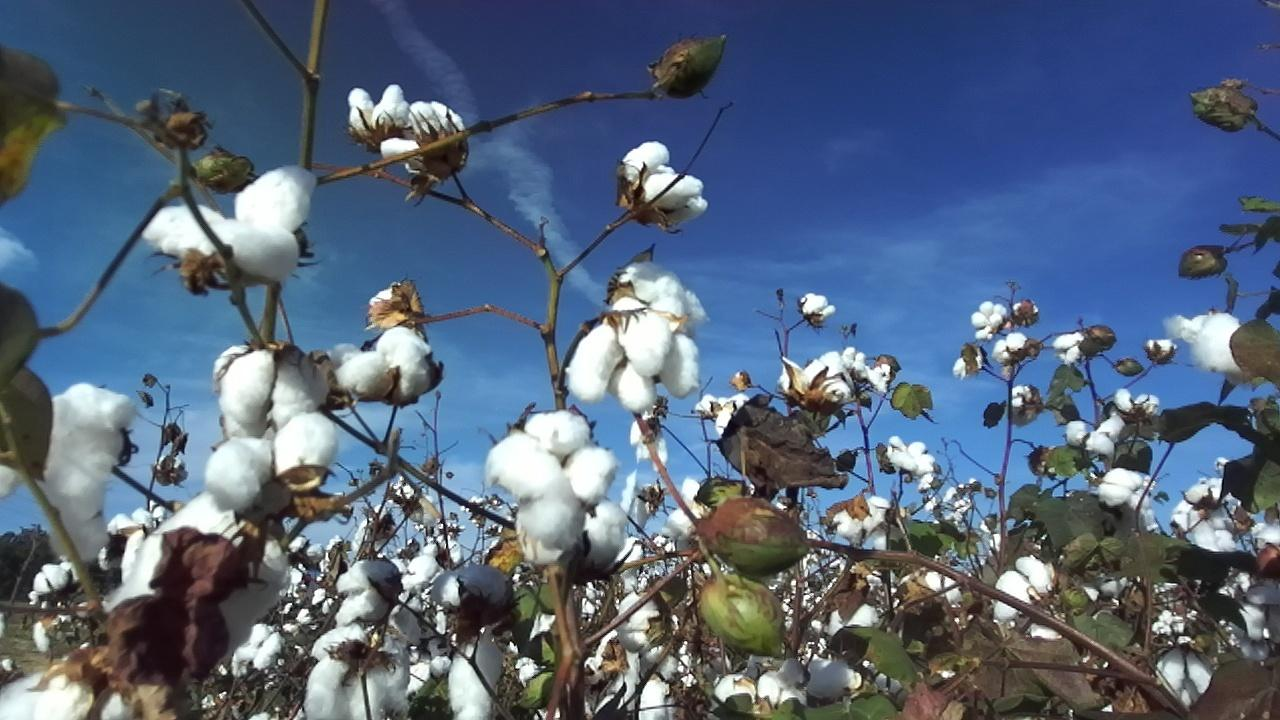cotton_ready: (104, 490, 287, 674), (0, 379, 139, 563), (144, 164, 315, 279), (492, 410, 616, 542), (569, 310, 699, 410), (205, 414, 334, 502), (215, 344, 325, 438), (308, 624, 410, 720), (995, 555, 1097, 640), (335, 324, 440, 398), (0, 660, 129, 720), (381, 102, 465, 177), (625, 144, 706, 221), (435, 569, 514, 639), (619, 592, 680, 679), (621, 264, 707, 322), (1165, 315, 1242, 374), (337, 557, 400, 628), (1172, 483, 1239, 548), (715, 672, 803, 720), (449, 640, 499, 720), (1217, 575, 1273, 642), (1154, 649, 1212, 709), (780, 350, 853, 397), (347, 82, 412, 133), (1096, 467, 1152, 519), (898, 568, 970, 606), (833, 496, 887, 542), (806, 660, 862, 704), (668, 477, 710, 535), (696, 394, 749, 435), (1066, 419, 1122, 455), (635, 679, 679, 720), (887, 437, 932, 475), (828, 605, 876, 637)
